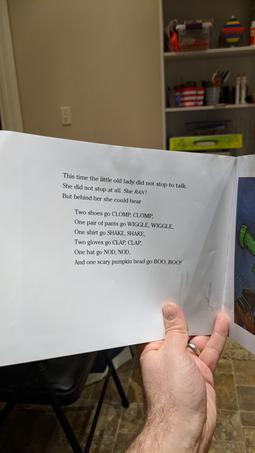text block: (54, 166, 200, 273)
